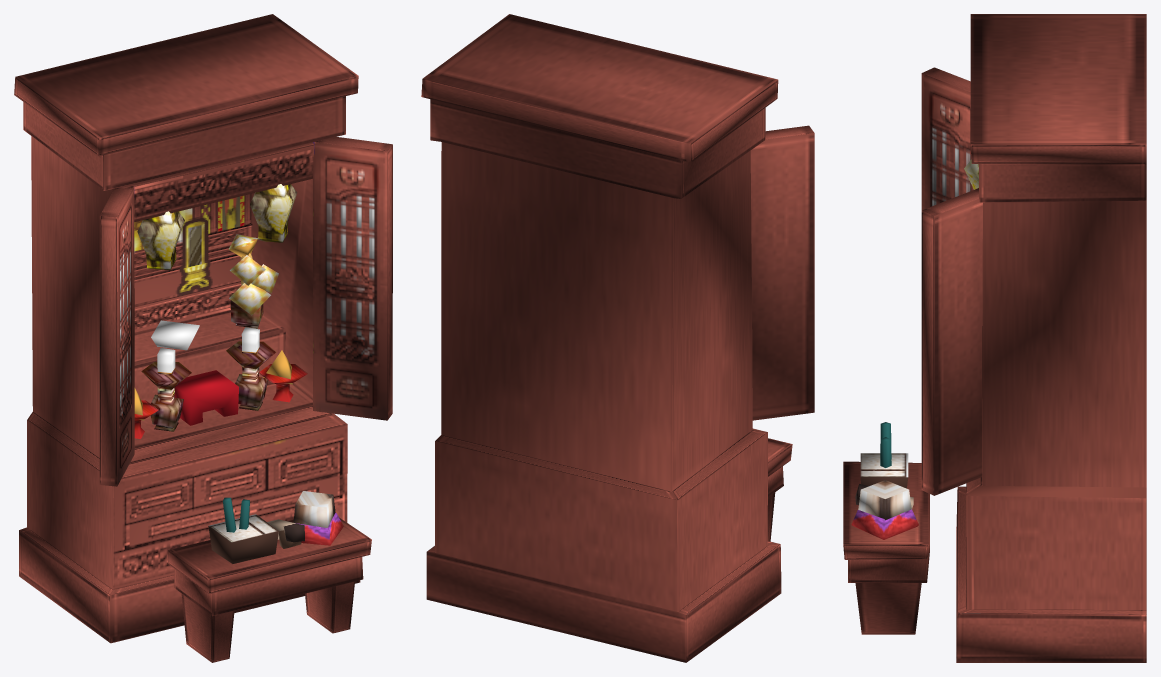
The model's file is buddhist_altar.fbx.
3 renders of one model, left to right at view 1: azimuth 30°, elevation 25°; view 2: azimuth 150°, elevation 25°; view 3: azimuth 270°, elevation 25°, orthographic. The views are drawn at different scales.
Visible parts, largest first — view 1: buddhist_altar; view 2: buddhist_altar; view 3: buddhist_altar.
Part boxes in pixels (x1=…): buddhist_altar: x1=14, y1=14, x2=392, y2=662; buddhist_altar: x1=421, y1=14, x2=814, y2=662; buddhist_altar: x1=843, y1=14, x2=1146, y2=662.
Bounding box in the file's own units: 108 × 176 × 93.08.
